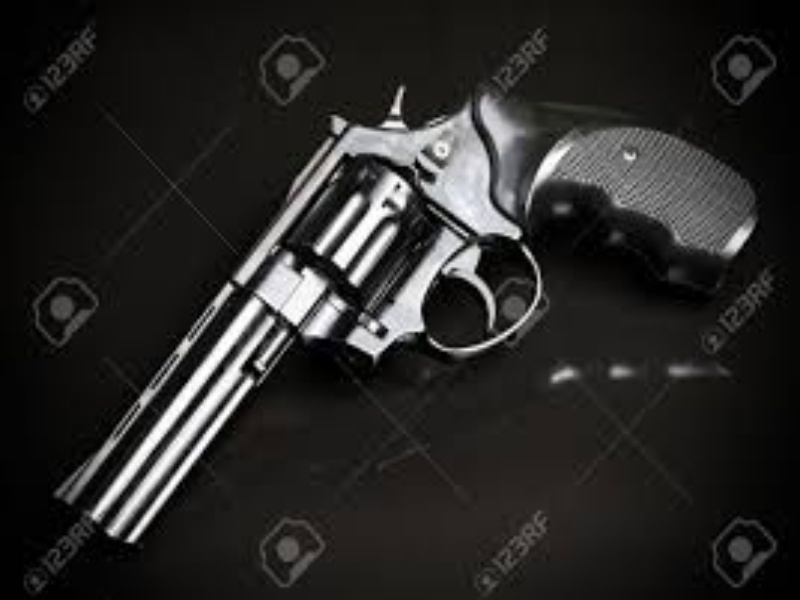gun: (42, 73, 762, 544)
